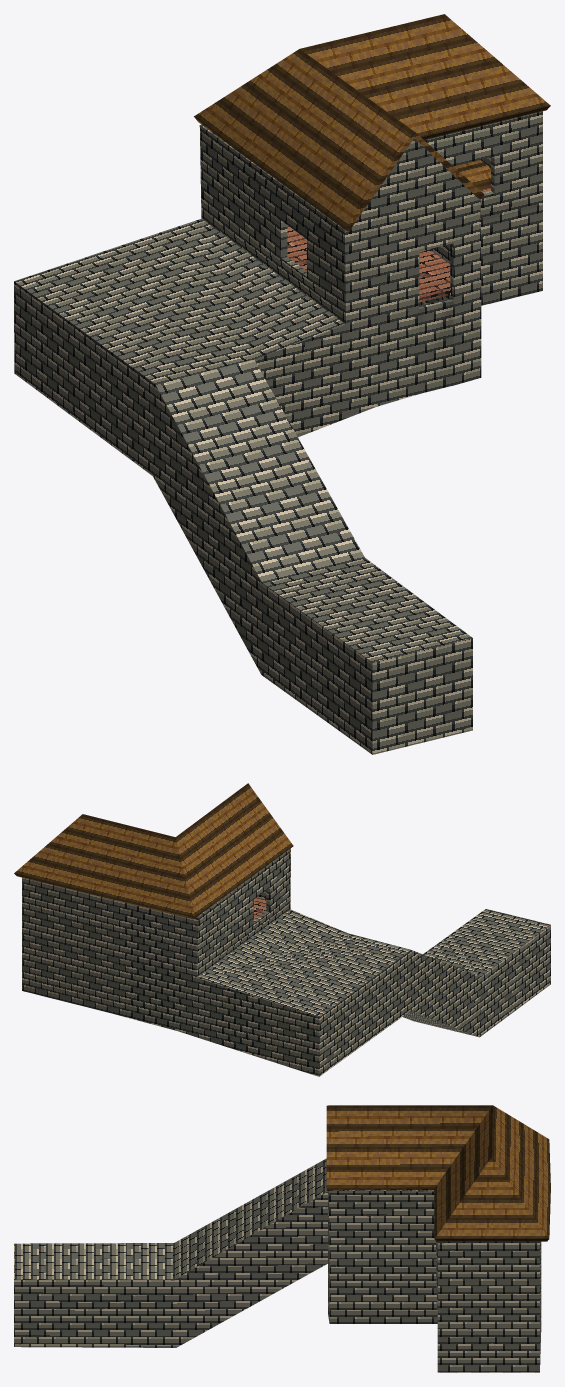
The model's file is house2_basement.obj.
The picture shows the model from 3 angles, top to bottom: view 1: azimuth 30°, elevation 25°; view 2: azimuth 150°, elevation 25°; view 3: azimuth 270°, elevation 25°; orthographic projection. The views are drawn at different scales.
Visible parts, largest first — view 1: muren, Object001, Object002; view 2: muren, Object001; view 3: muren, Object001.
Boxes of the visible parts, x1,y1,x2,y2 form: muren: (14, 111, 542, 754); Object001: (194, 14, 550, 231); Object002: (287, 188, 490, 393); muren: (22, 848, 550, 1076); Object001: (14, 783, 293, 919); muren: (14, 1158, 541, 1372); Object001: (326, 1105, 550, 1241).
Bounding box in the file's own units: 24.96 × 20.77 × 33.96.
